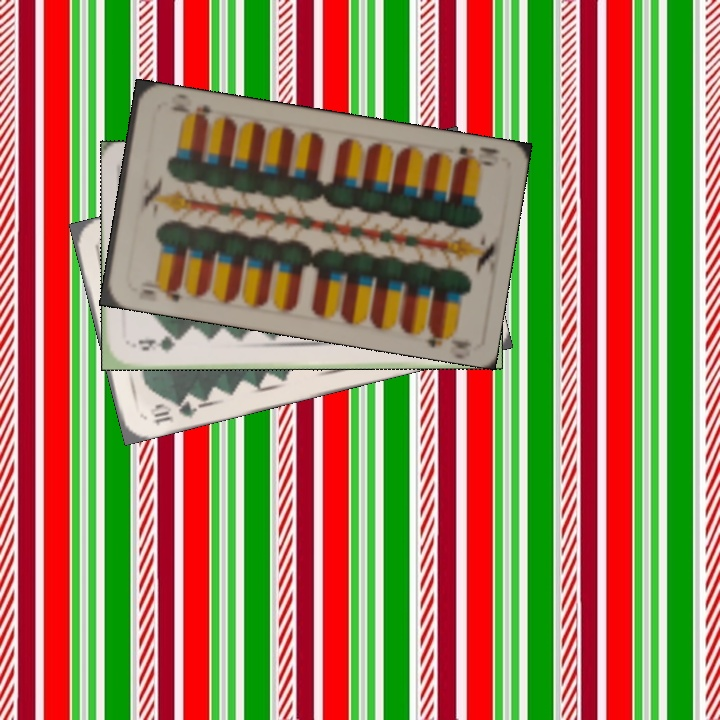E10: (450, 143, 503, 170), (137, 277, 183, 305)
G10: (149, 394, 202, 429)
G9: (134, 334, 184, 354)
